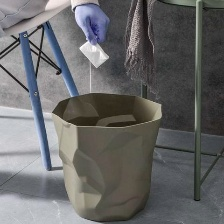tissue: (77, 34, 111, 70)
